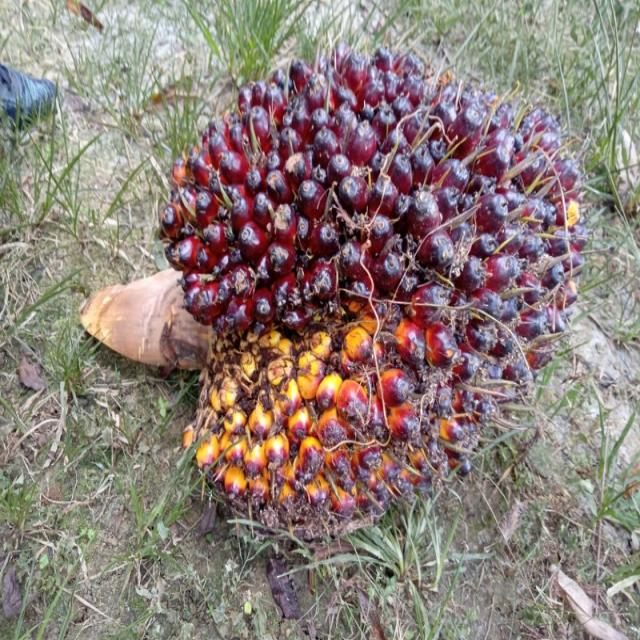fraksi 1: (166, 34, 588, 546)
